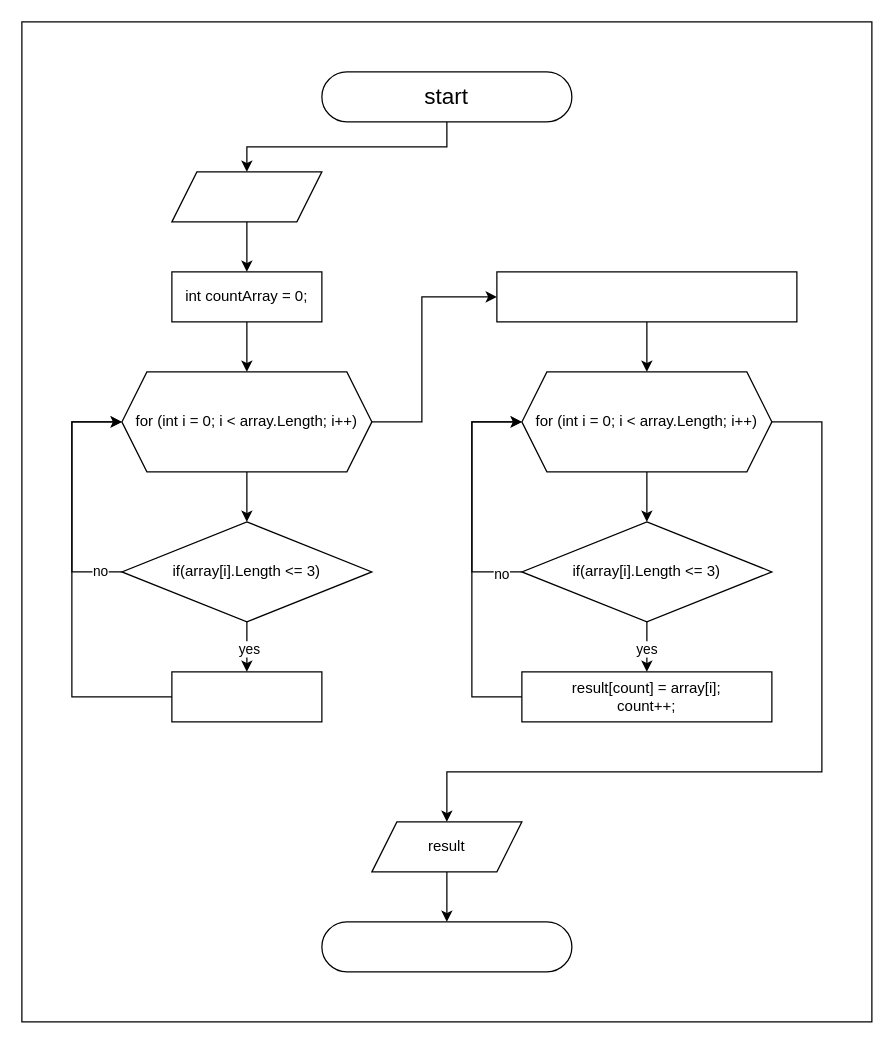
The diagram is 894 pixels wide and 1044 high, and some of its shapes have lost their labels. The centre of each missing label's shape, as x and y in pixels:
countArray++;: the point at 246,696
end: the point at 446,946
string[] array: the point at 246,196
string[] result = new string[countArray]; int count = 0;: the point at 646,296
